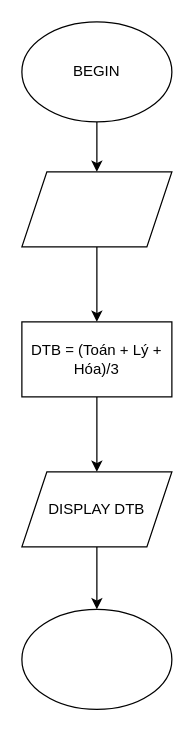
Some shapes in this 194 by 731 pixel diagram are drawn without their labels. Here are the shapes that lost their labels. From the top down, the box of each, then its label:
(21, 171, 172, 247): INPUT Toán, Lý, Hóa
(21, 608, 172, 709): END
